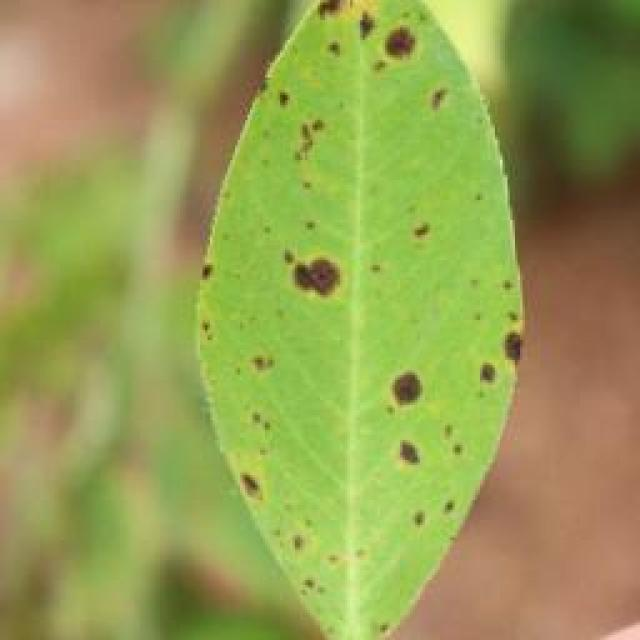Yellowish: (212, 0, 558, 619)
